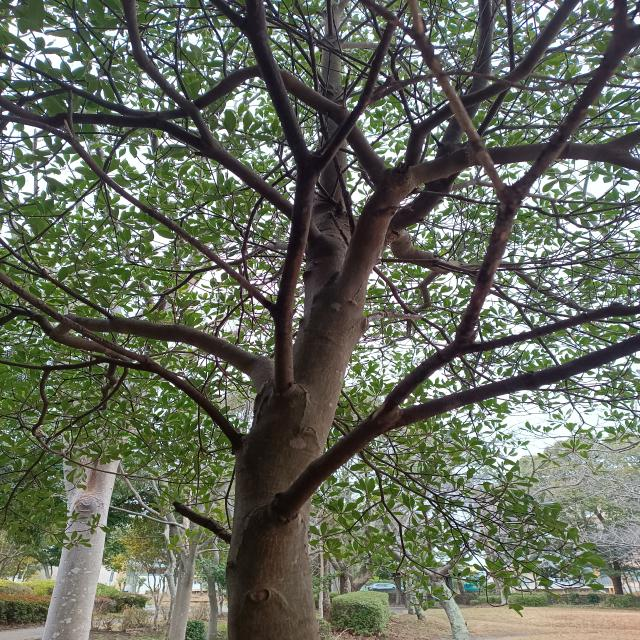Branch: (69, 316, 274, 393), (285, 409, 405, 511), (334, 165, 414, 302), (273, 166, 317, 391), (143, 356, 243, 448), (198, 134, 294, 222)
Twig: (405, 0, 580, 163), (359, 0, 504, 191), (515, 1, 640, 188), (406, 334, 640, 425), (0, 272, 144, 364), (419, 129, 640, 187), (120, 0, 209, 138), (235, 5, 309, 162), (455, 184, 528, 341), (0, 97, 202, 150), (323, 23, 397, 165), (475, 303, 640, 351), (382, 340, 474, 407), (43, 355, 153, 372), (33, 371, 52, 437), (101, 365, 118, 410), (0, 361, 44, 369)
